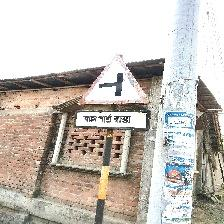Side-road-left: (76, 53, 150, 132)
